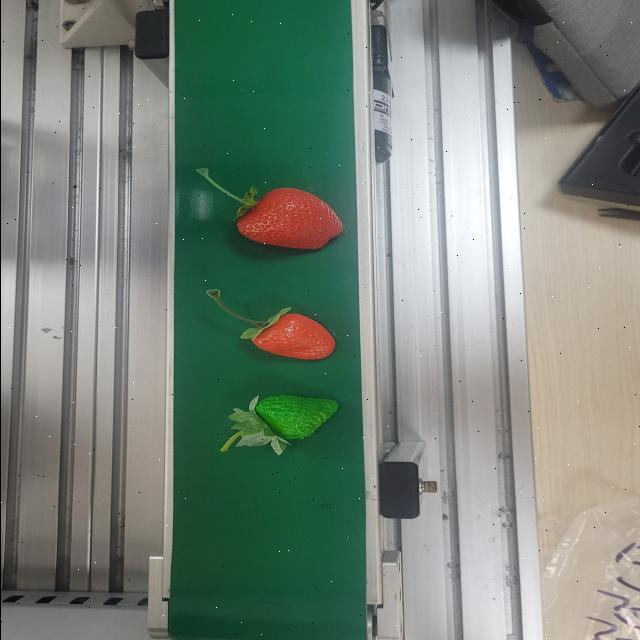Large Ripe Strawberry: (228, 186, 344, 253)
Small Ripe Strawberry: (230, 309, 336, 363)
Small Unripe Strawberry: (222, 391, 344, 454)
